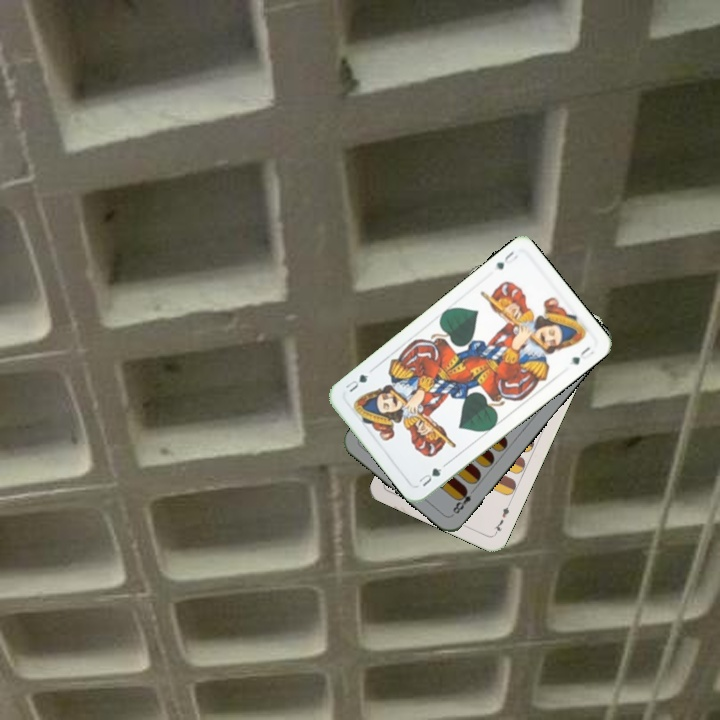E7: (490, 499, 513, 537)
E8: (448, 484, 474, 518)
GU: (415, 460, 449, 489), (491, 247, 520, 272)
